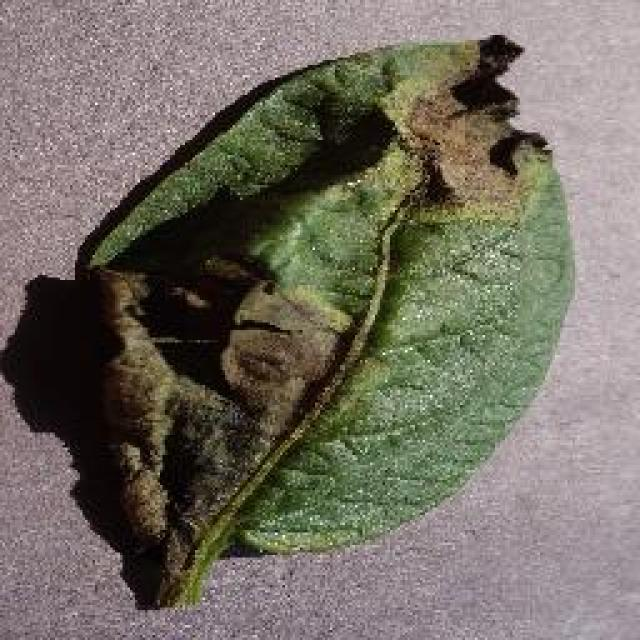late_blight: (70, 28, 578, 608)
